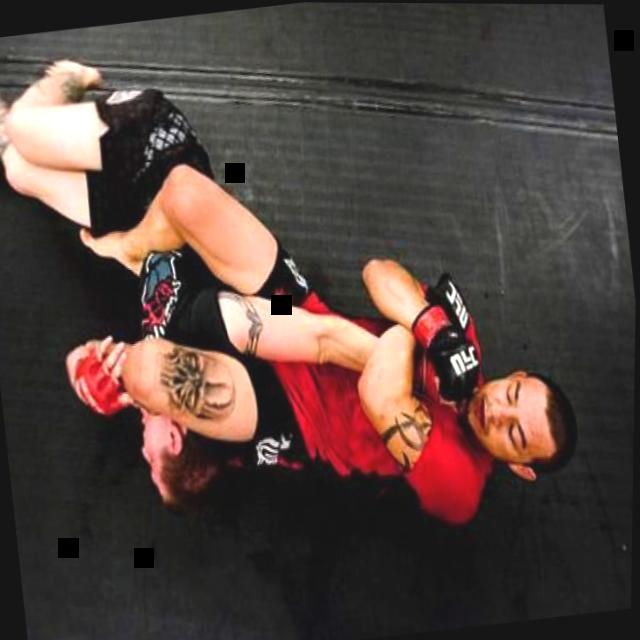Fall-Detected: (23, 0, 601, 529)
